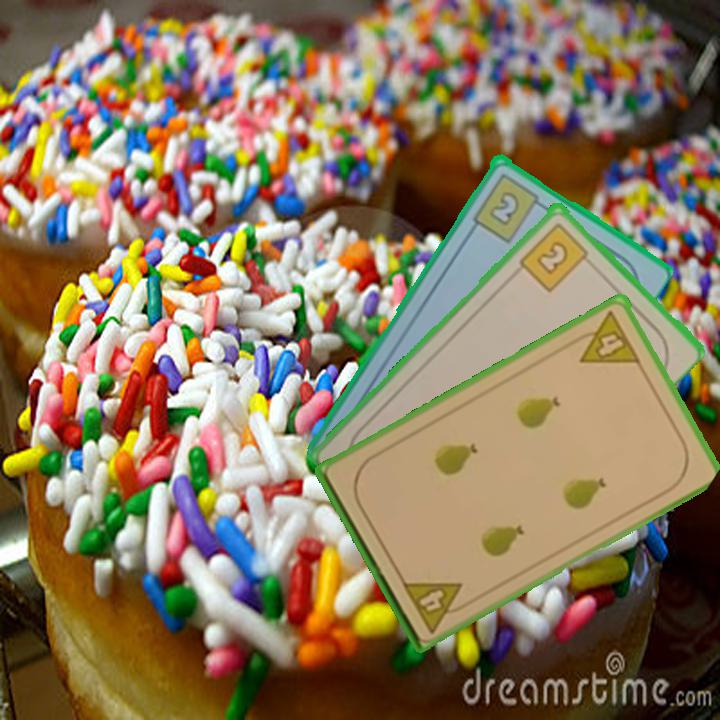2b: (469, 169, 549, 245), (516, 218, 596, 294)
4p: (567, 307, 644, 367), (398, 577, 474, 636)
